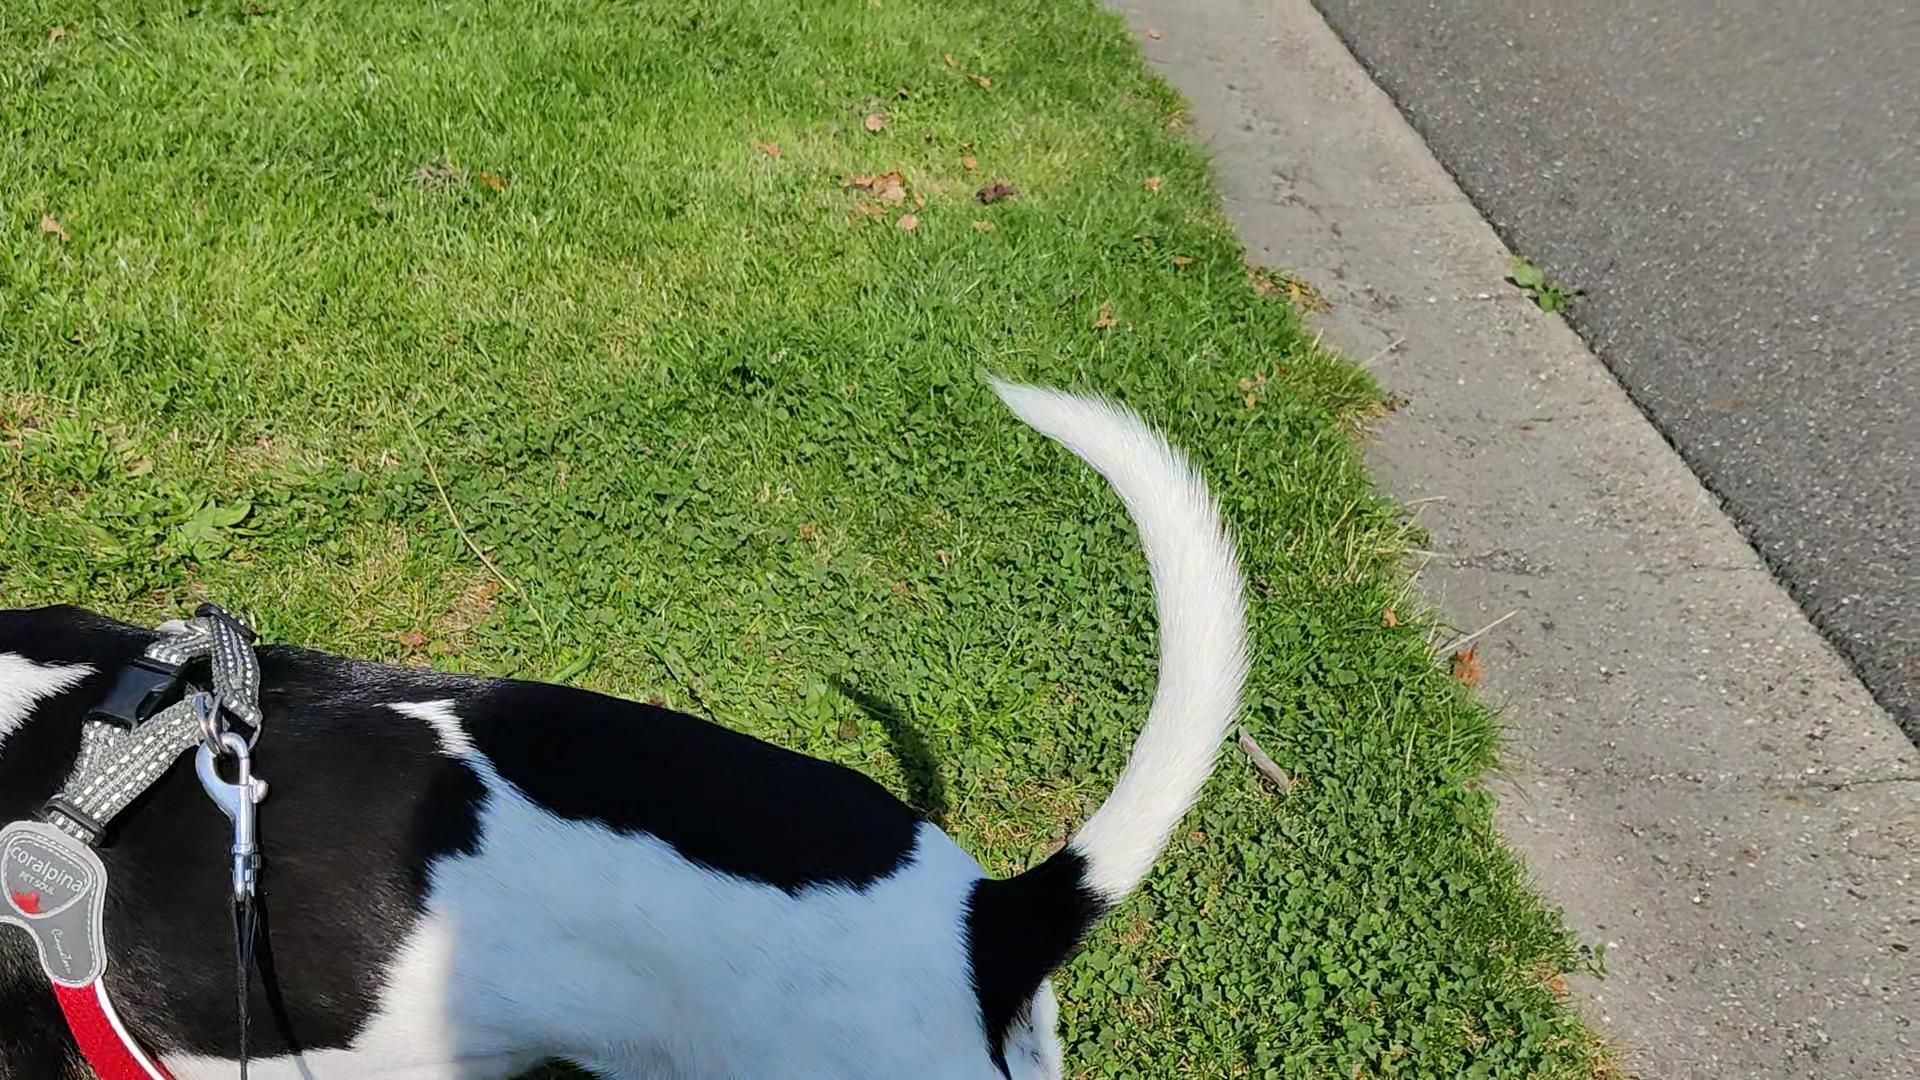Dog: (0, 364, 1255, 1079)
